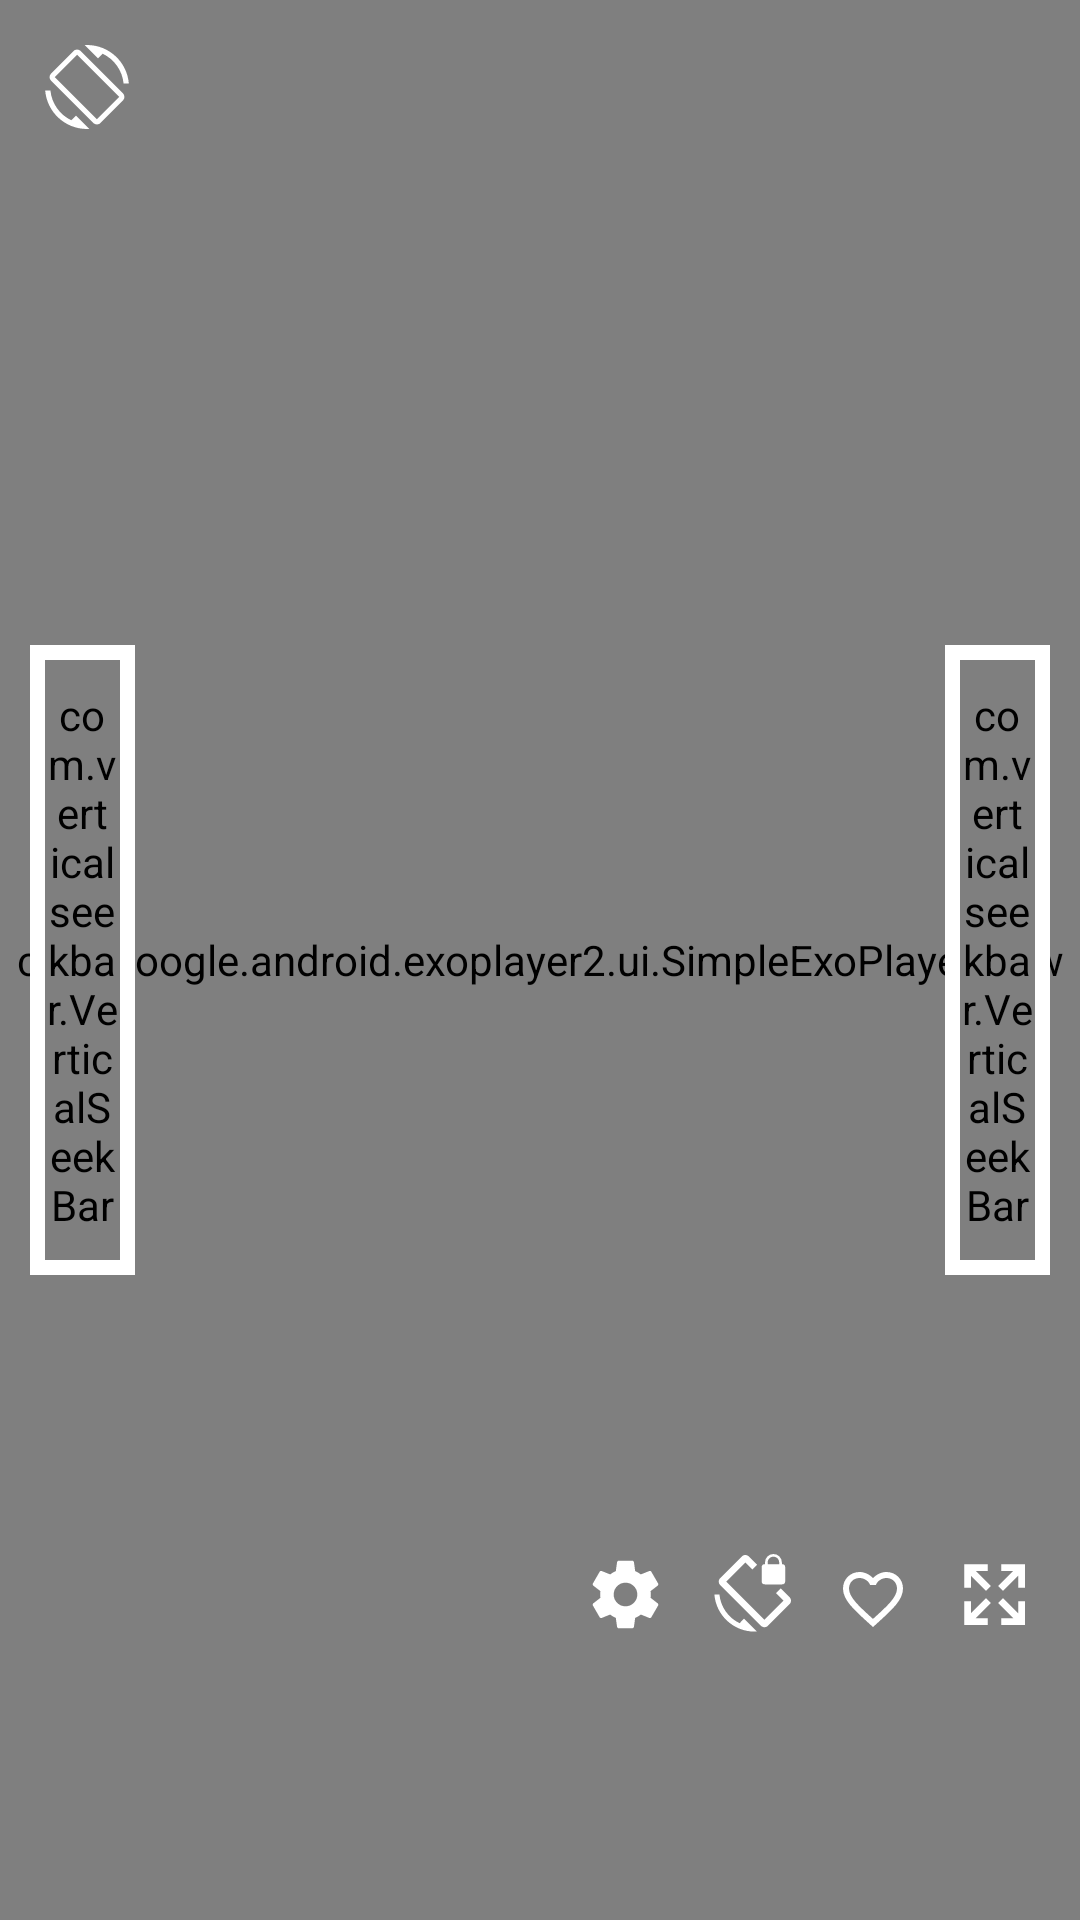

Icon click points for this 1080×1920 phone screenshot, format (x=x, y=y):
arrow expand all: (x=994, y=1594)
heart: (x=873, y=1599)
screen rotation: (x=87, y=87)
screen rotation lock: (x=752, y=1593)
settings: (x=625, y=1594)
